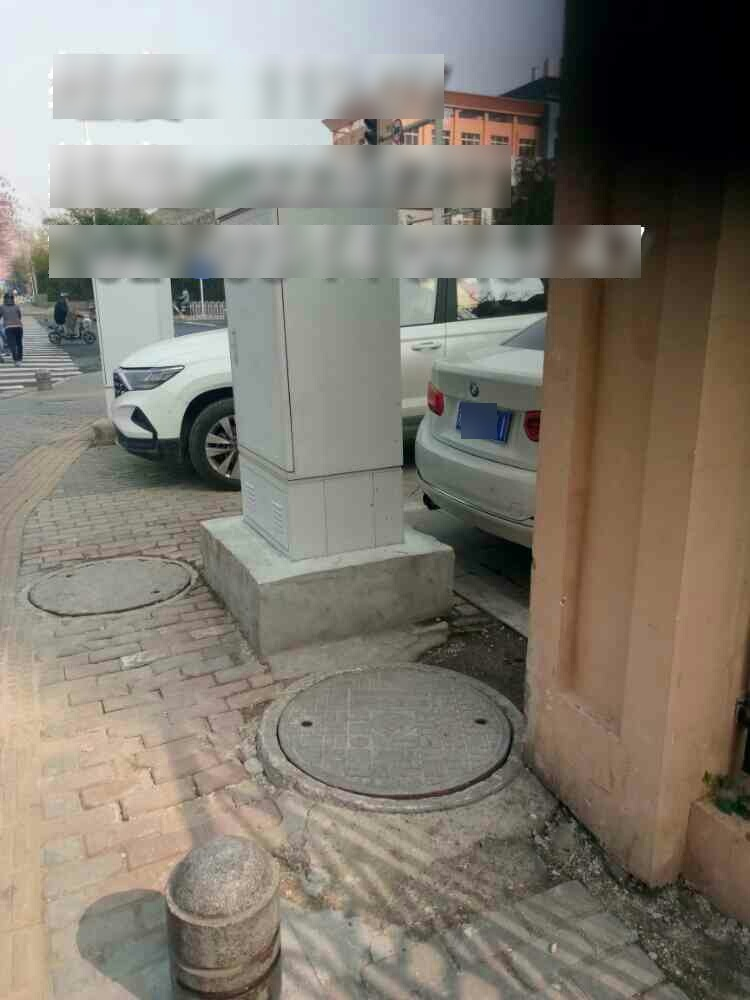well: (256, 661, 529, 811), (23, 552, 207, 620)
